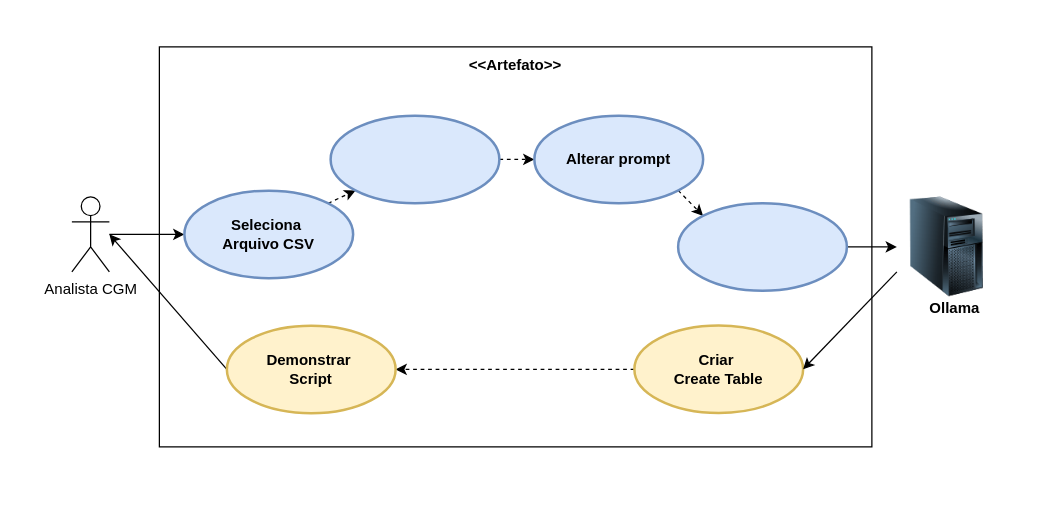
Image size: 1043x505. Some labels were removed from this diagram. Each missing label, with the centre of its shape:
"Envio para Modelo SLM" belongs at (x=762, y=246).
"Ler dados do Arquivo CSV" belongs at (x=414, y=159).
